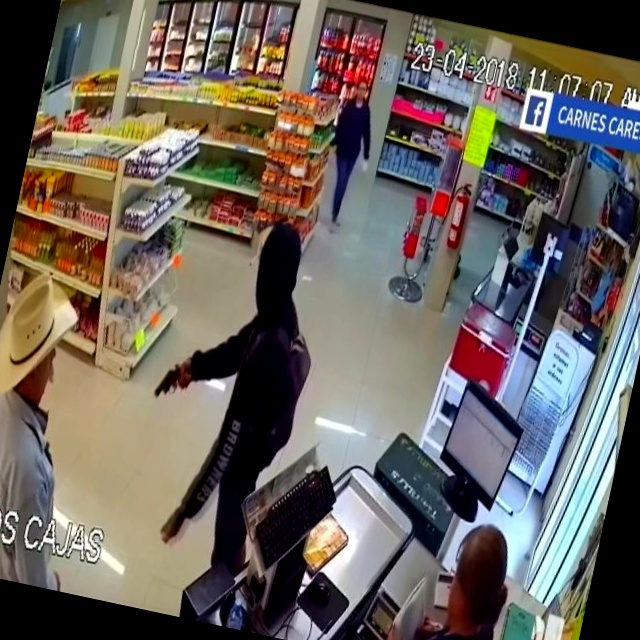gun: (146, 340, 190, 421)
